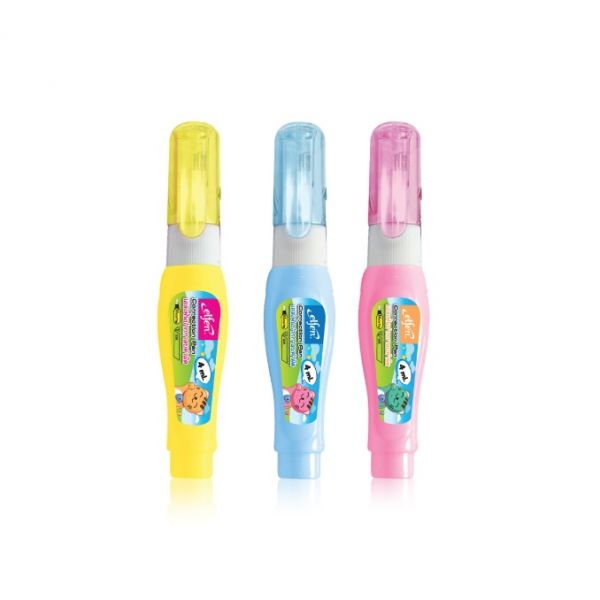Correction_fluid: (351, 113, 435, 490), (255, 116, 338, 491), (154, 116, 235, 495)
